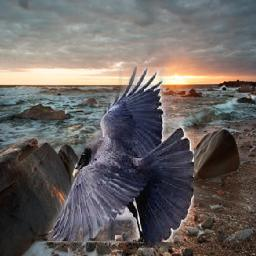Crow: (38, 68, 194, 249)
